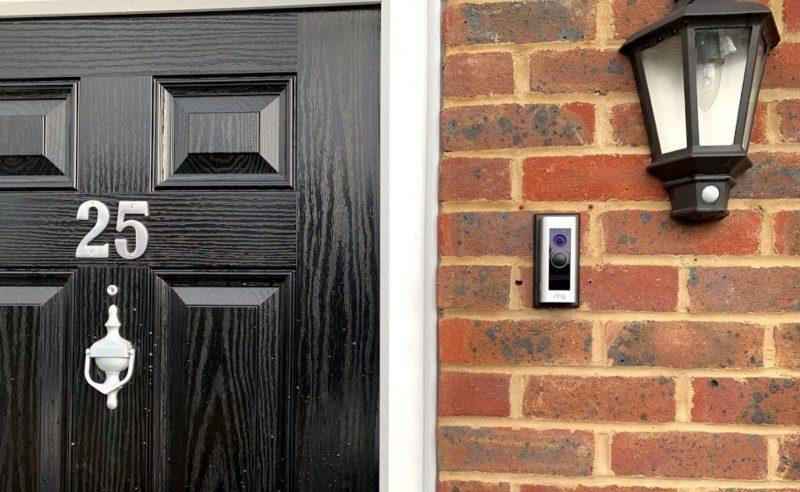doorbell: (514, 198, 593, 317)
